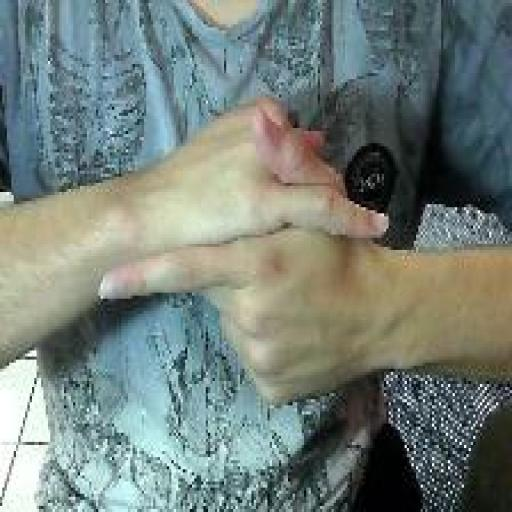U -hare-: (96, 88, 393, 414)
